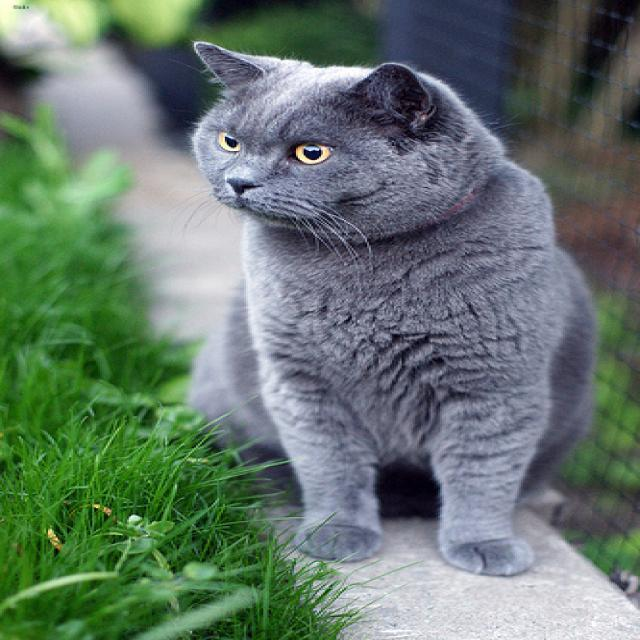British_Shorthair: (189, 41, 458, 228)
